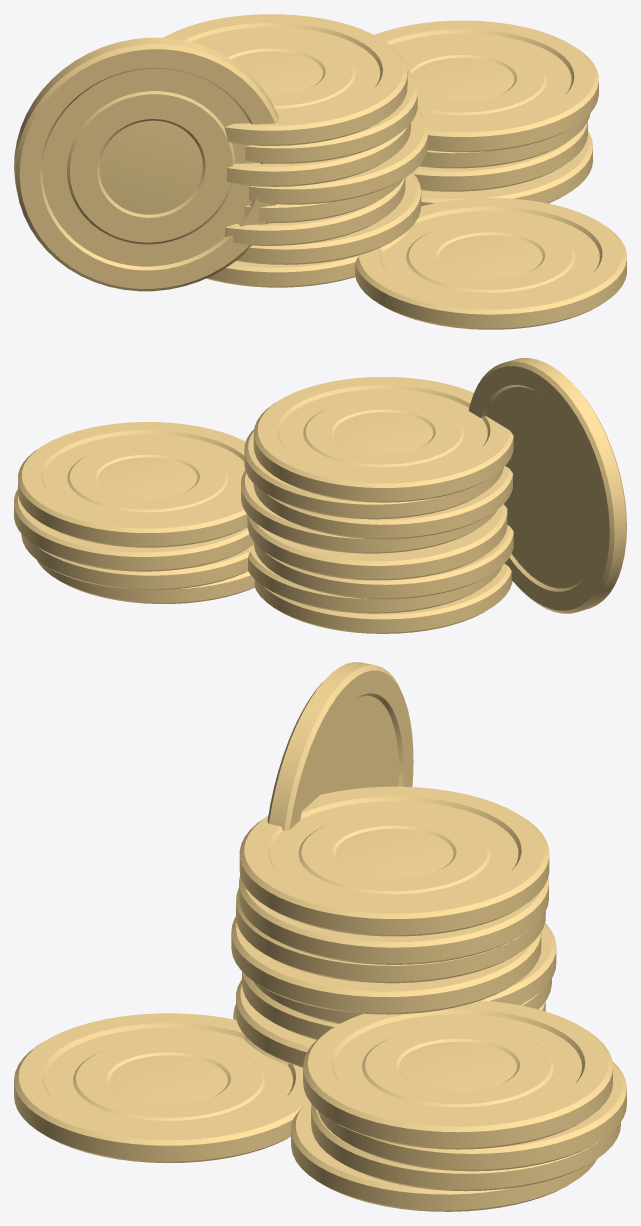
File: coins.glb
The picture shows the model from 3 angles, top to bottom: view 1: azimuth 30°, elevation 25°; view 2: azimuth 150°, elevation 25°; view 3: azimuth 270°, elevation 25°; orthographic projection. The views are drawn at different scales.
Visible parts, largest first — view 1: lean, flat, c2.003, c.007, c.001, c.004, c.005, c2.001, c.006, c.002, c, c2 (+2 smaller); view 2: lean, c.007, c2.003, c.003, c2.002, c.005, c, c.002, c.006, c2.001, c.004, c.001 (+1 smaller); view 3: c.007, c2.003, flat, lean, c.004, c.006, c2, c2.002, c2.001, c.005, c.003, c.001 (+1 smaller).
Part boxes in pixels (box(x1,y1,x2,y2)): lean: box(14, 37, 278, 291); flat: box(355, 198, 626, 329); c2.003: box(374, 20, 598, 152); c.007: box(163, 14, 407, 145); c.001: box(236, 172, 421, 264); c.004: box(249, 110, 428, 204); c.005: box(227, 123, 410, 186); c2.001: box(413, 121, 587, 191); c.006: box(245, 68, 417, 163); c.002: box(225, 178, 405, 245); c: box(206, 229, 409, 287); c2: box(421, 131, 592, 206); lean: box(468, 358, 626, 613); c.007: box(253, 377, 513, 502); c2.003: box(18, 422, 247, 547); c.003: box(247, 504, 507, 580); c2.002: box(14, 489, 253, 571); c.005: box(253, 466, 512, 539); c: box(254, 564, 512, 633); c.002: box(254, 525, 513, 599); c.006: box(244, 429, 503, 519); c2.001: box(21, 534, 249, 590); c.004: box(241, 470, 496, 553); c.001: box(248, 545, 501, 613); c.007: box(239, 786, 549, 936); c2.003: box(303, 1000, 612, 1149); flat: box(14, 1013, 308, 1163); lean: box(267, 662, 413, 830); c.004: box(231, 916, 541, 1014); c.006: box(239, 875, 548, 964); c2: box(291, 1100, 596, 1211); c2.002: box(318, 1061, 626, 1171); c2.001: box(311, 1104, 620, 1191); c.005: box(236, 888, 545, 983); c.003: box(252, 923, 556, 1023); c.001: box(236, 979, 545, 1067).
Bounding box in the file's own units: 1.61 × 0.6399 × 1.27.
